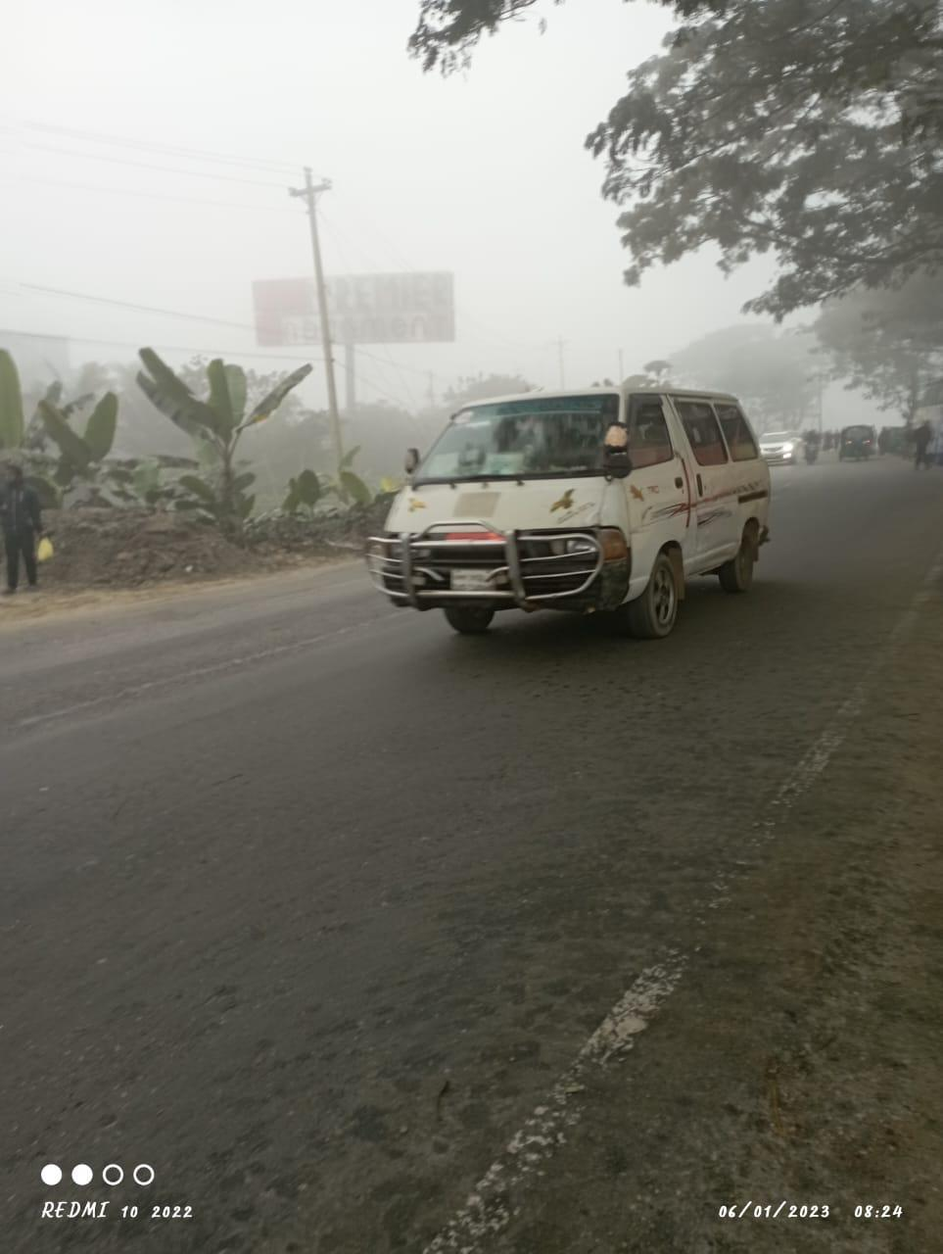Car: (350, 371, 787, 634), (750, 422, 809, 473)
